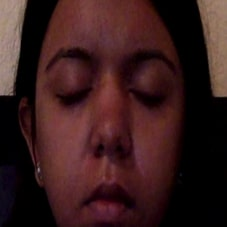drowsy: (42, 40, 178, 227)
